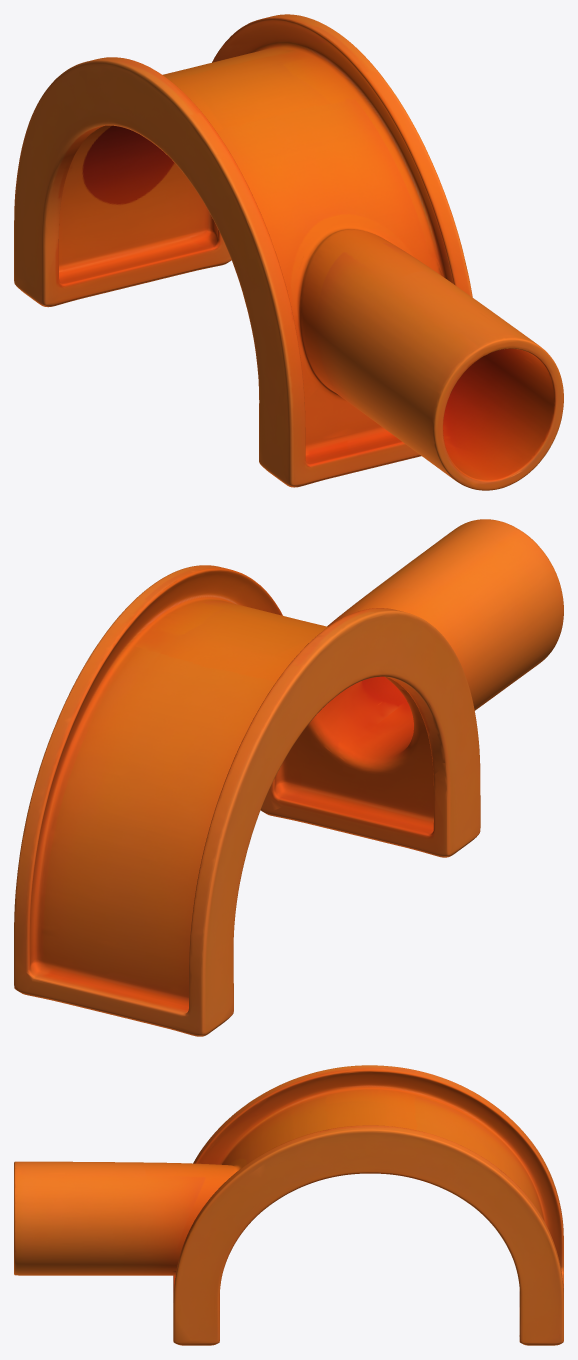
The model's file is pipe exit.glb.
The picture shows the model from 3 angles, top to bottom: view 1: azimuth 30°, elevation 25°; view 2: azimuth 150°, elevation 25°; view 3: azimuth 270°, elevation 25°; orthographic projection. The views are drawn at different scales.
Visible parts, largest first — view 1: material; view 2: material; view 3: material.
Part boxes in pixels (x1=…): material: x1=14, y1=14, x2=563, y2=490; material: x1=14, y1=519, x2=563, y2=1036; material: x1=14, y1=1065, x2=563, y2=1345.
Size of the model in its own units: 0.3023 by 0.4667 by 1.07.
1 material, 1 textured.
